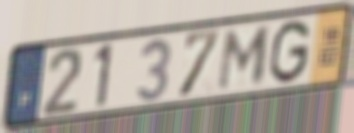1: (93, 41, 116, 112)
2: (41, 45, 87, 119)
3: (135, 34, 174, 104)
7: (180, 26, 222, 100)
G: (267, 18, 313, 87)
M: (215, 24, 274, 94)
